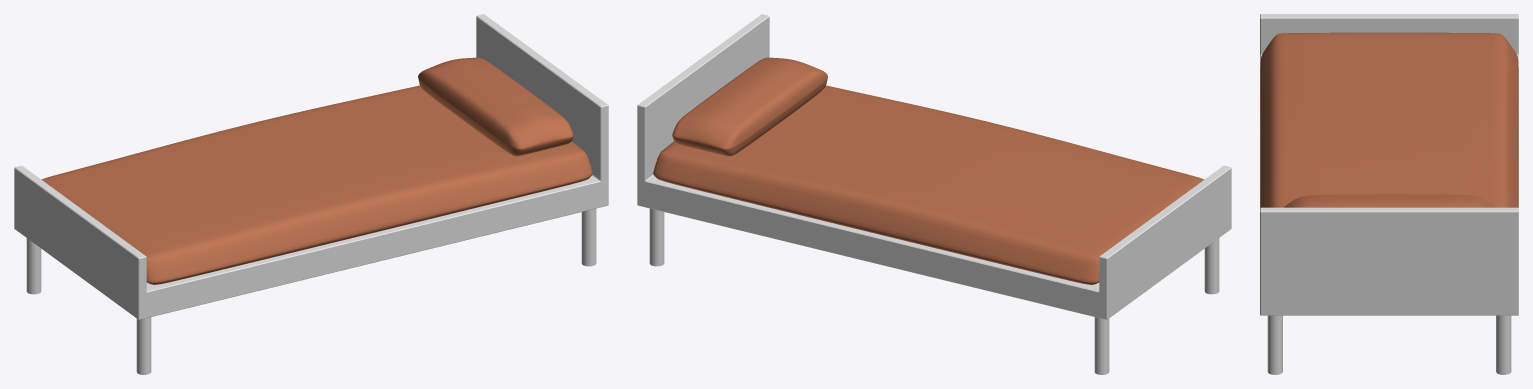
File: Bed.fbx
3 renders of one model, left to right at view 1: azimuth 30°, elevation 25°; view 2: azimuth 150°, elevation 25°; view 3: azimuth 270°, elevation 25°, orthographic. The views are drawn at different scales.
Parts seen in each view (by area): view 1: colchon, Cama, Almohada; view 2: colchon, Cama, Almohada; view 3: colchon, Cama, Almohada.
Part boxes in pixels (left/top/right/bottom): colchon: left=41, top=85, right=592, bottom=284; Cama: left=14, top=14, right=608, bottom=374; Almohada: left=418, top=57, right=573, bottom=156; colchon: left=653, top=85, right=1204, bottom=284; Cama: left=637, top=14, right=1231, bottom=374; Almohada: left=672, top=57, right=827, bottom=156; colchon: left=1260, top=32, right=1518, bottom=207; Cama: left=1260, top=14, right=1518, bottom=374; Almohada: left=1284, top=194, right=1494, bottom=207.
Size of the model in its own units: 740 by 242 by 340.
